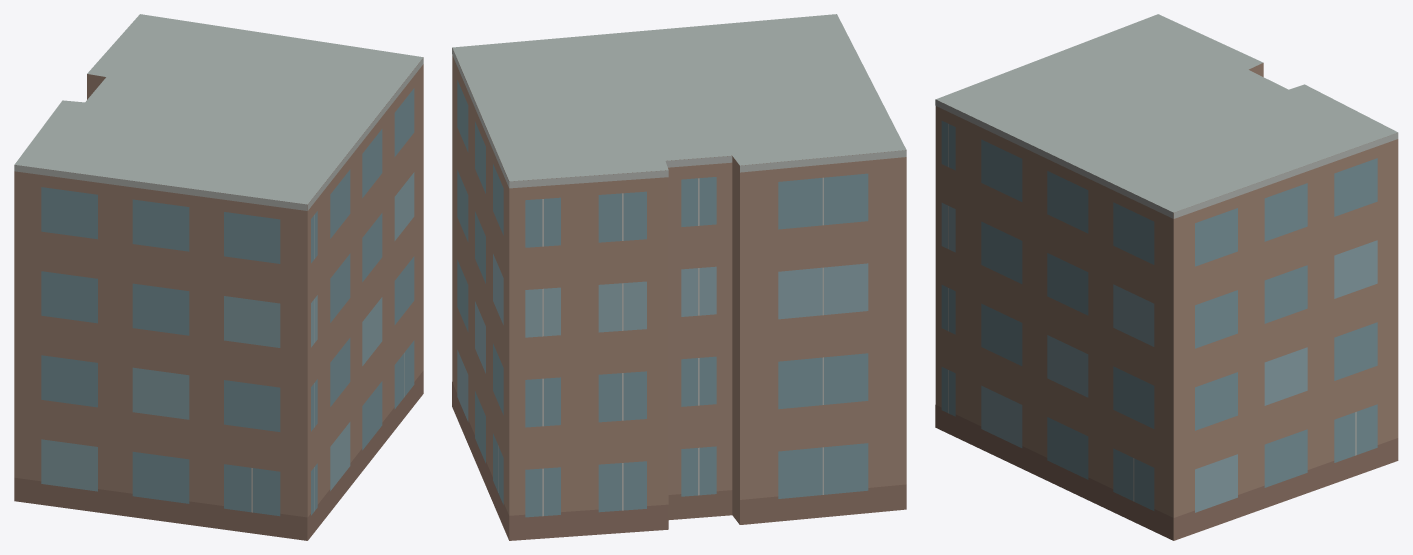
Rendered from survey-upis-32630080.glb.
The picture shows the model from 3 angles, left to right: view 1: azimuth 30°, elevation 25°; view 2: azimuth 150°, elevation 25°; view 3: azimuth 270°, elevation 25°; orthographic projection. The views are drawn at different scales.
Parts seen in each view (by area): view 1: survey-upis-32630080.tmp; view 2: survey-upis-32630080.tmp; view 3: survey-upis-32630080.tmp.
Boxes of the visible parts, x1,y1,x2,y2 form: survey-upis-32630080.tmp: (14, 14, 423, 540); survey-upis-32630080.tmp: (452, 14, 906, 540); survey-upis-32630080.tmp: (935, 14, 1398, 540).
Bounding box in the file's own units: 16.3 × 12.55 × 16.05.
